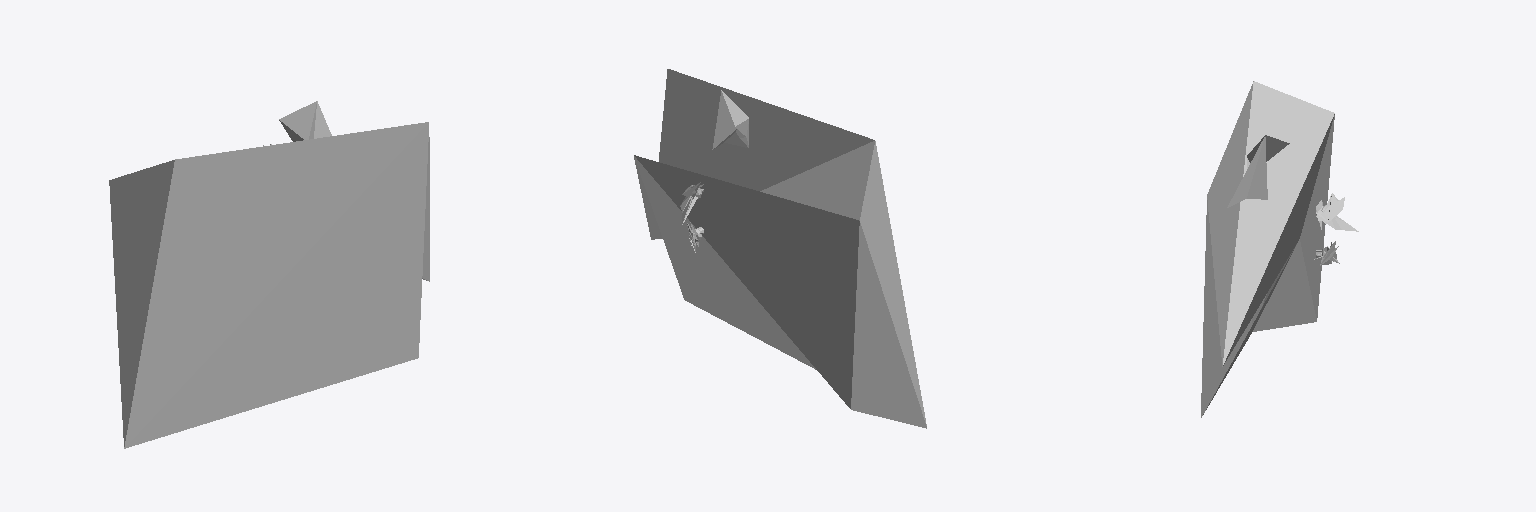
Rendered from DoorImplode.obj.
3 renders of one model, left to right at view 1: azimuth 30°, elevation 25°; view 2: azimuth 150°, elevation 25°; view 3: azimuth 270°, elevation 25°, orthographic.
Parts seen in each view (by area): view 1: Door.001; view 2: Door.001; view 3: Door.001.
Boxes of the visible parts, x1=… form: Door.001: x1=109, y1=101, x2=429, y2=448; Door.001: x1=634, y1=69, x2=926, y2=428; Door.001: x1=1201, y1=81, x2=1358, y2=417.
Bounding box in the file's own units: 0.9294 × 0.8982 × 0.4378.